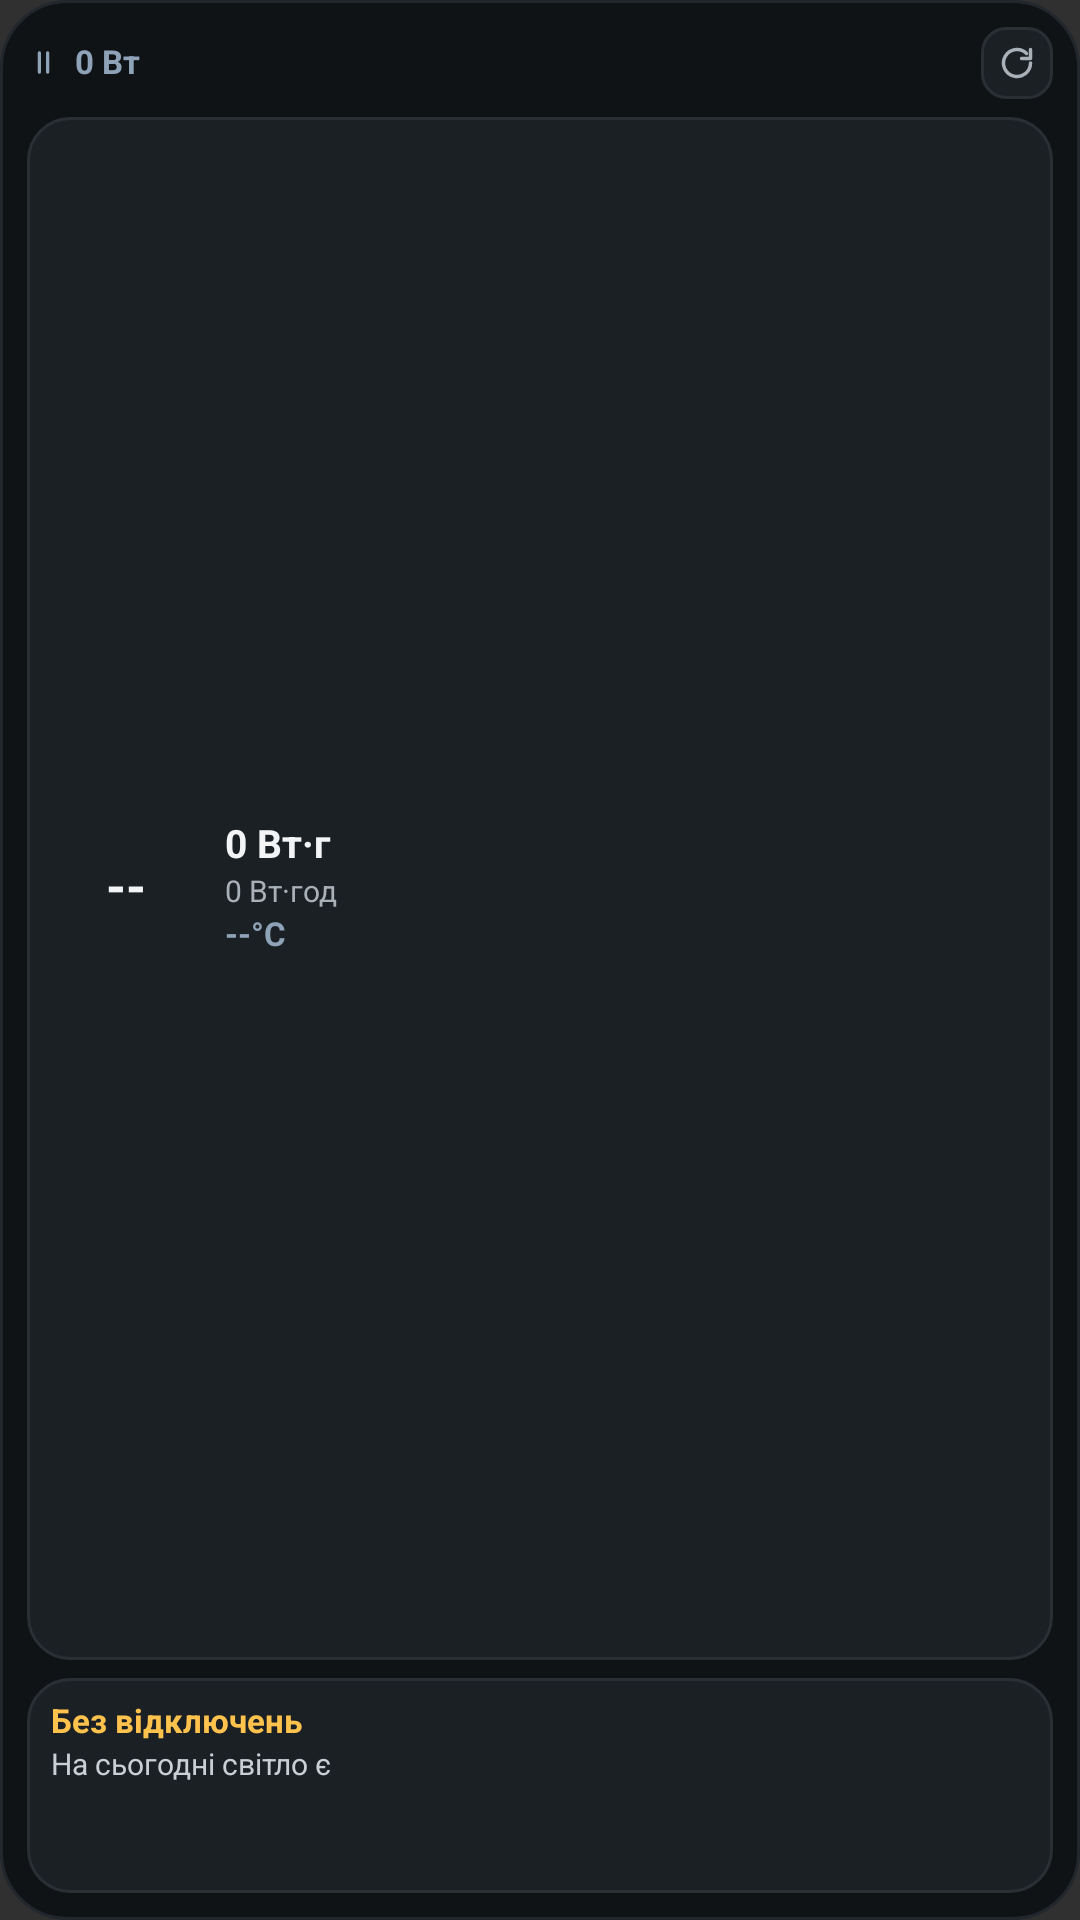

Screen size 1080 x 1920. Icon name, then its center in pixels as point (x, y):
refresh: point (1017, 63)
